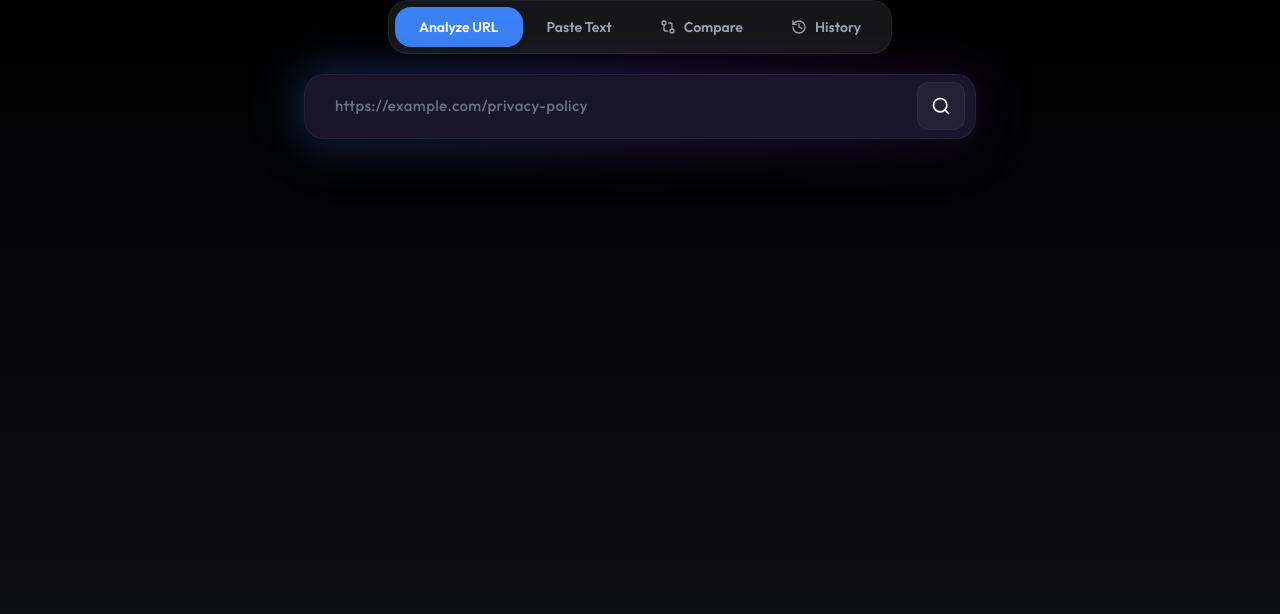
Scenario: PolicyAnalyzer Component › shows error state when API fails
In the field named "Privacy Policy URL": (614, 106) [311,81,917,132], type "https://bad.com"
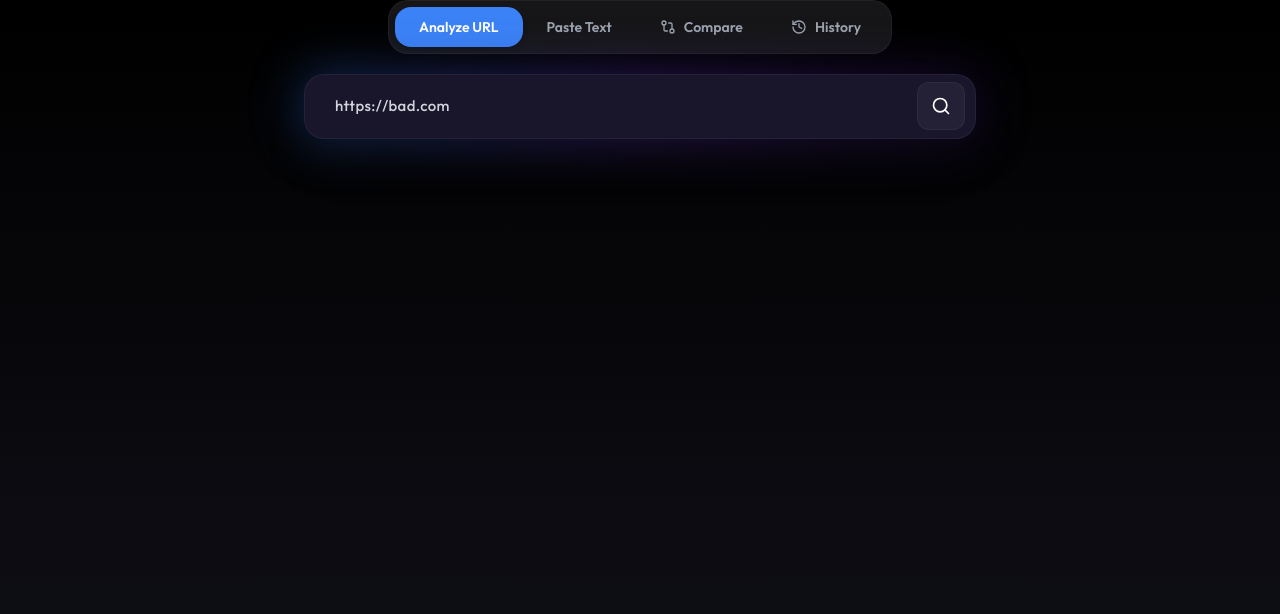
Click the button named "Analyze URL": (941, 106) [917,82,965,130]
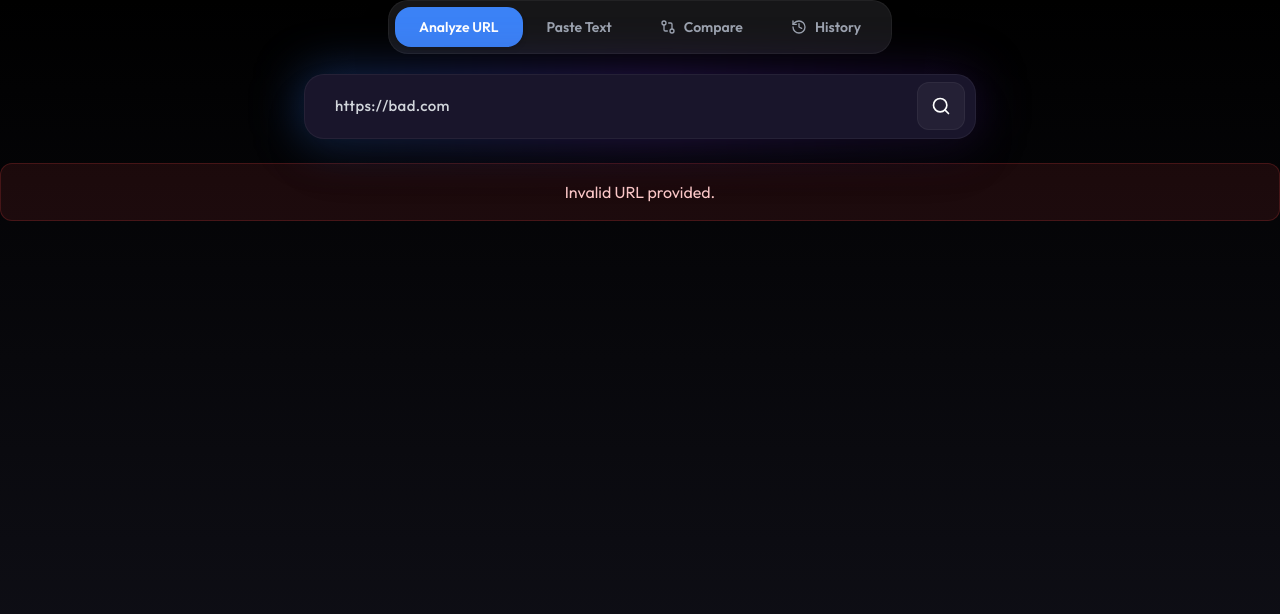
Expected: the text "Invalid URL provided." is shown, [0,162,1279,220]
